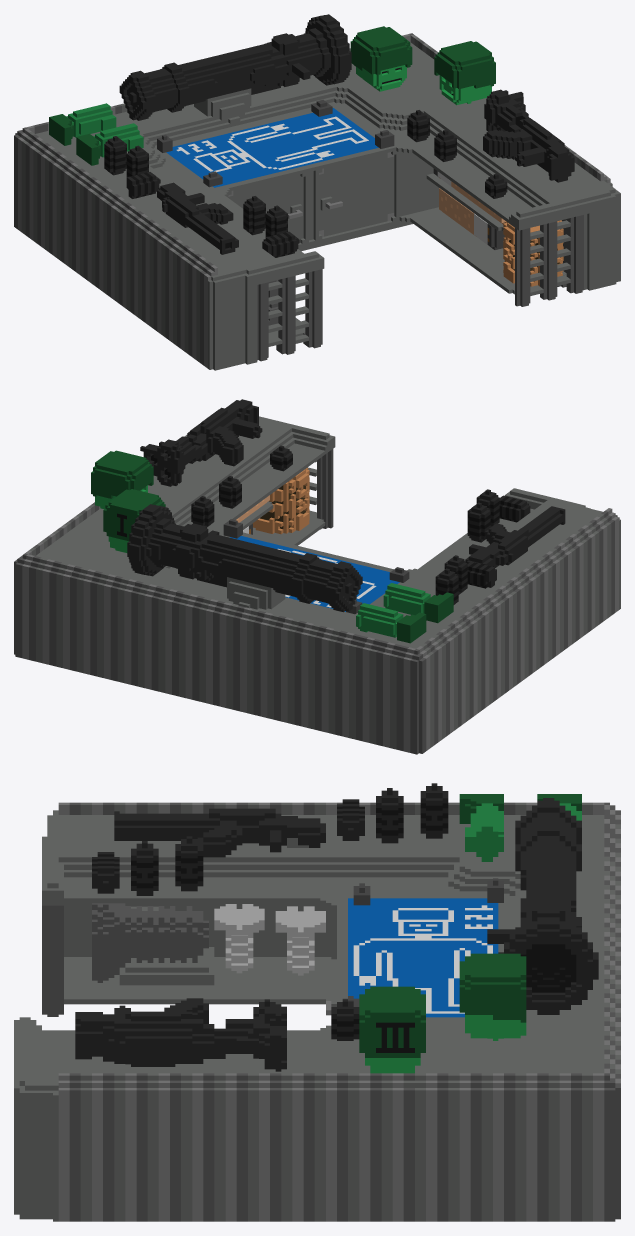
Rendered from weapon_upgrade_station_v2.obj.
The picture shows the model from 3 angles, top to bottom: view 1: azimuth 30°, elevation 25°; view 2: azimuth 150°, elevation 25°; view 3: azimuth 270°, elevation 25°; orthographic projection. The views are drawn at different scales.
Size of the model in its own units: 12 by 4.4 by 10.9.
1 material, 1 textured.
